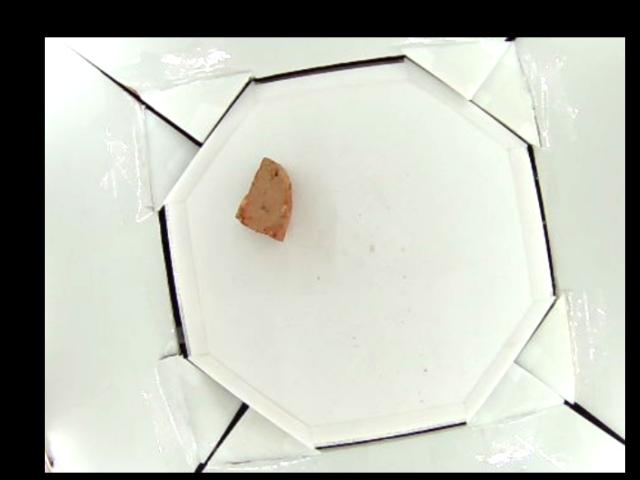Brisk: (234, 157, 291, 244)
